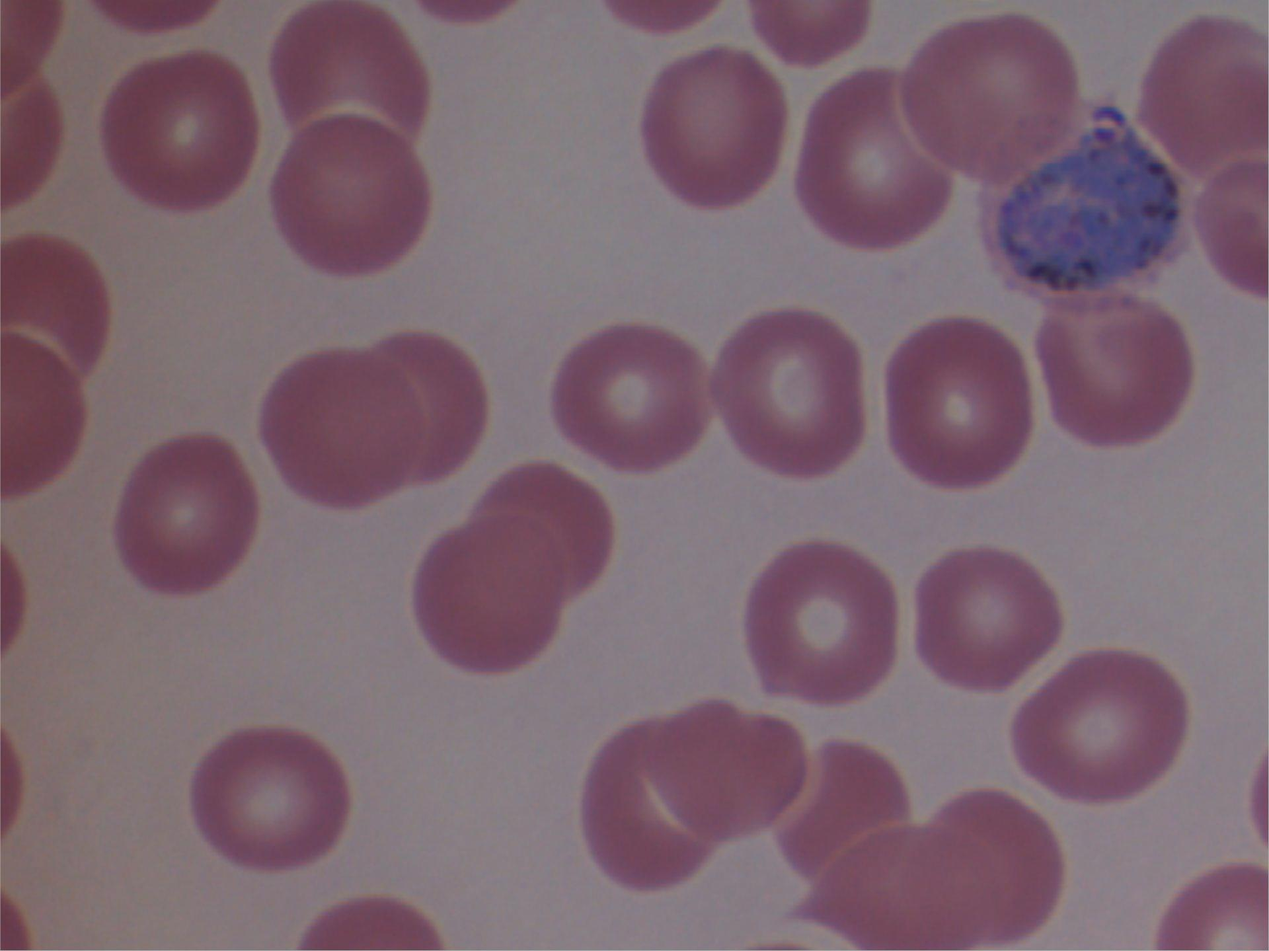Infected: (977, 104, 1195, 296)
Uninfected: (905, 15, 1084, 176), (261, 342, 419, 510), (796, 75, 950, 246), (886, 316, 1031, 492), (1018, 655, 1190, 801), (547, 321, 710, 475), (744, 542, 898, 705), (418, 509, 571, 672), (720, 306, 866, 475), (273, 116, 430, 271), (273, 7, 431, 160), (787, 825, 977, 951), (639, 48, 792, 204), (915, 542, 1065, 694), (580, 724, 715, 892), (1044, 296, 1191, 450), (192, 729, 350, 871), (919, 793, 1061, 950), (119, 437, 259, 592), (101, 53, 243, 202), (659, 703, 812, 833), (482, 458, 615, 598), (1140, 20, 1268, 165), (0, 235, 115, 394), (364, 332, 490, 477), (772, 745, 912, 864), (0, 331, 87, 501)
